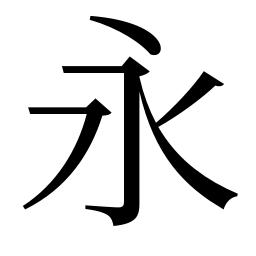D: (88, 12, 170, 55)
HSZ: (105, 56, 152, 89)
Hs: (59, 61, 95, 76)
Ne: (200, 183, 241, 212)
PNc: (144, 108, 175, 145)
PZe: (21, 185, 54, 211)
Ps: (188, 70, 227, 98)
SG: (83, 191, 144, 228)
Sm: (120, 150, 143, 178)
TPZ: (72, 97, 113, 147)
Ts: (26, 104, 53, 117)
